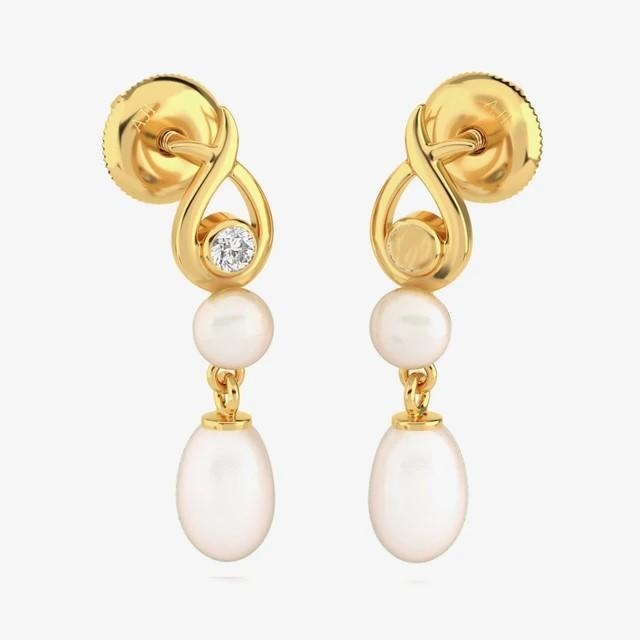missing gem: (387, 226, 437, 273)
